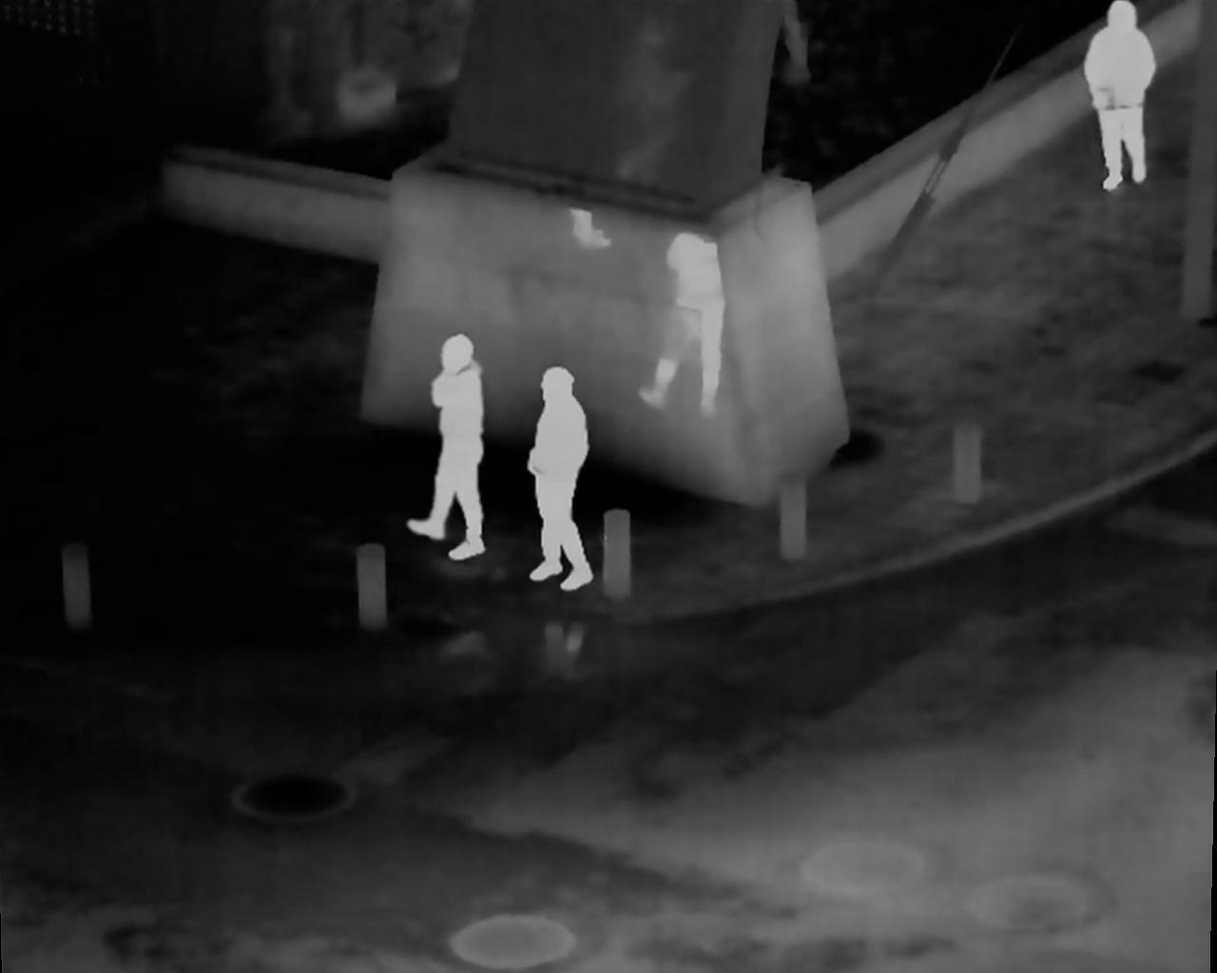person: (413, 335, 488, 556), (520, 364, 592, 585)
